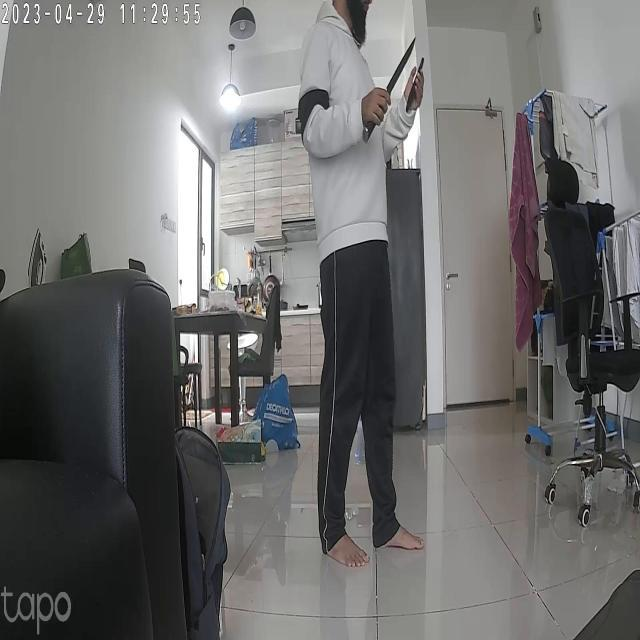Knife: (359, 35, 418, 137)
